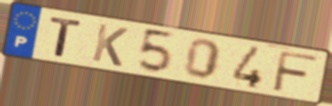0: (184, 37, 224, 82)
4: (230, 44, 264, 90)
5: (135, 26, 180, 76)
F: (270, 48, 321, 95)
K: (89, 21, 131, 69)
T: (48, 16, 85, 60)
